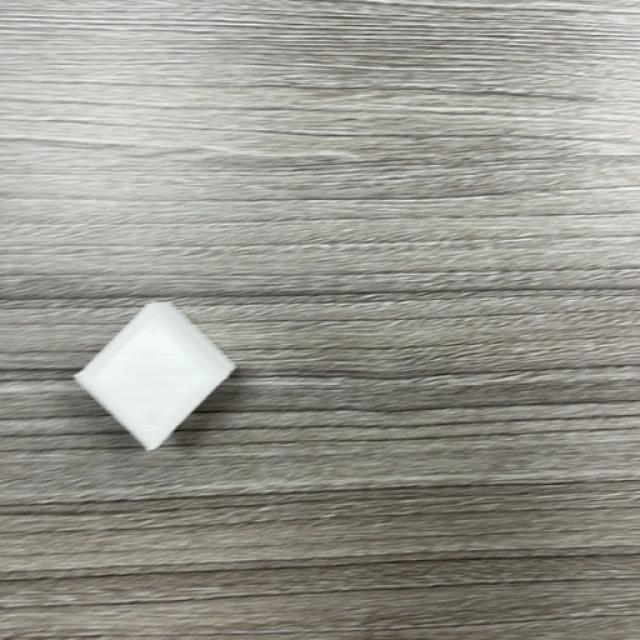Blanco: (72, 302, 236, 454)
